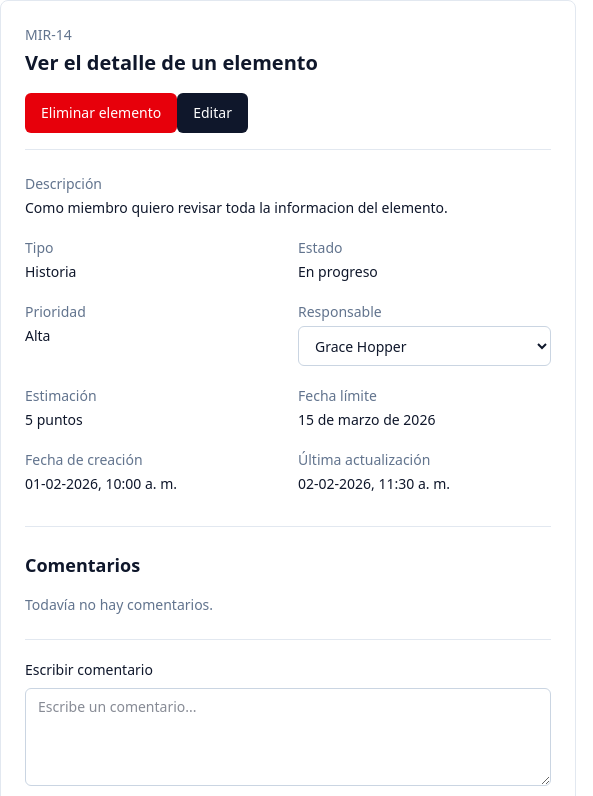
Test case: WorkItemDetail › precarga el formulario con los campos editables actuales
The width and height of the screenshot is (593, 796).
Click the button "Editar". click: x=213, y=113
box: 177,93 -> 248,133
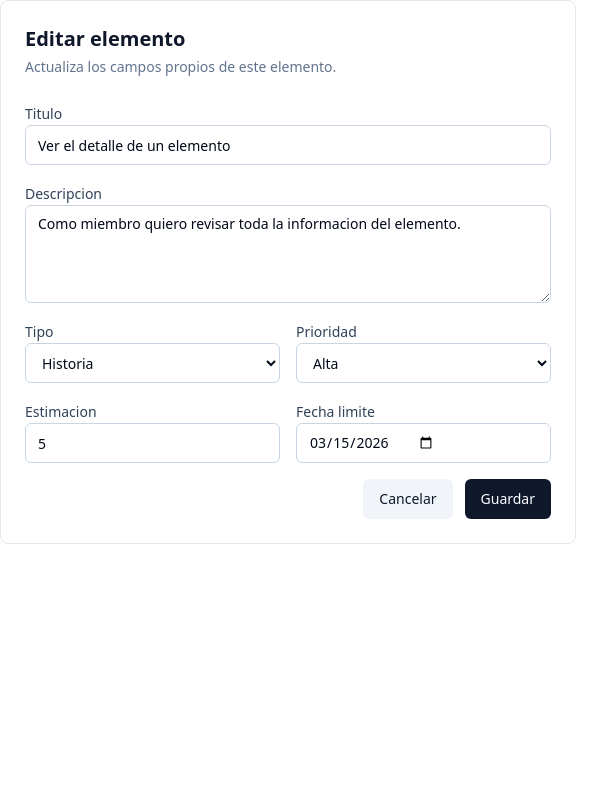
Check: the heading "Editar elemento" is shown, box 25,25 -> 185,52
Check: the field labelled "Titulo" holds "Ver el detalle de un elemento", box 25,125 -> 551,165
Check: the text box labelled "Descripcion" holds "Como miembro quiero revisar toda la informacion del elemento.", box 25,205 -> 551,303
